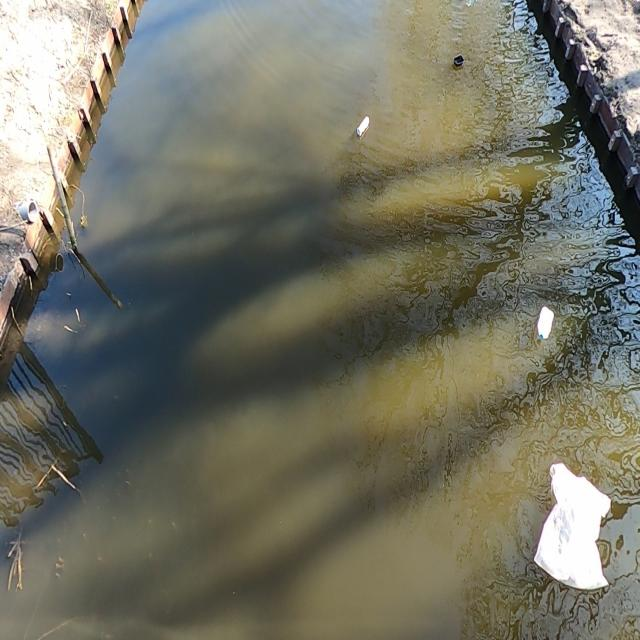Autre plastique: (536, 304, 554, 345)
Non plastique: (352, 112, 372, 141)
Sac plastique: (528, 454, 623, 611)
